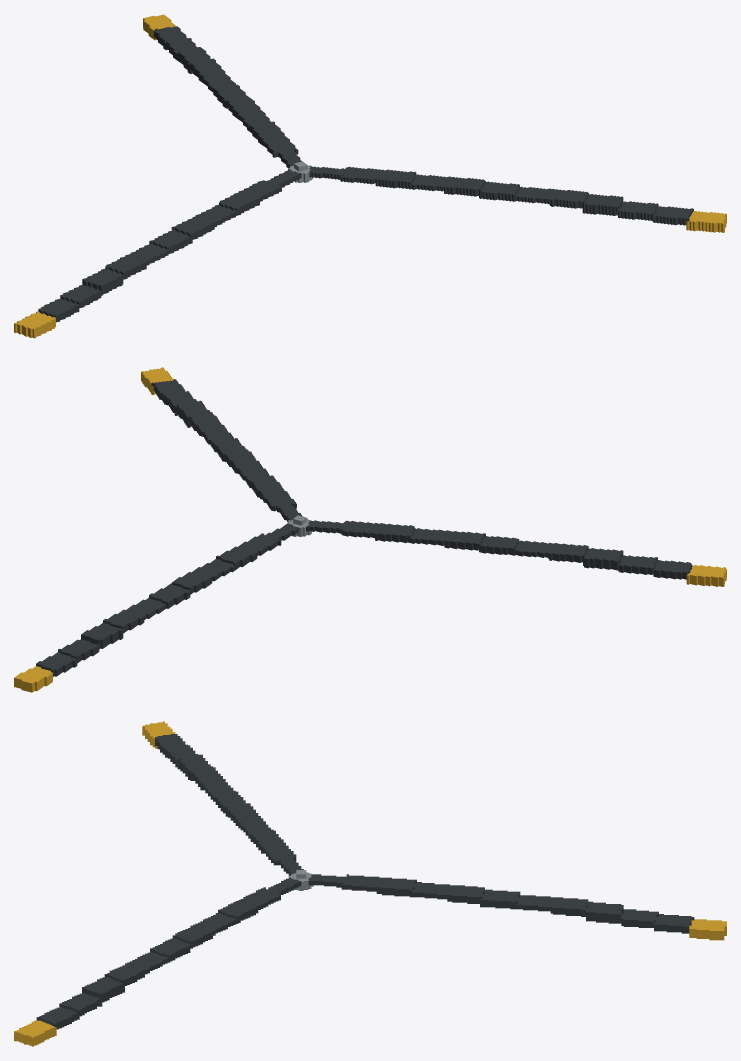
Rendered from police_helicopter_main_rotor.glb.
3 views of the same model, one above another, from view 1: azimuth 30°, elevation 25°; view 2: azimuth 150°, elevation 25°; view 3: azimuth 270°, elevation 25° (orthographic).
Visible parts, largest first — view 1: body:compound; view 2: body:compound; view 3: body:compound.
Part boxes in pixels (<box>): body:compound: <box>14,14,726,338</box>; body:compound: <box>14,367,726,692</box>; body:compound: <box>14,721,726,1046</box>.
Size of the model in its own units: 9.28 by 0.4375 by 8.84.
